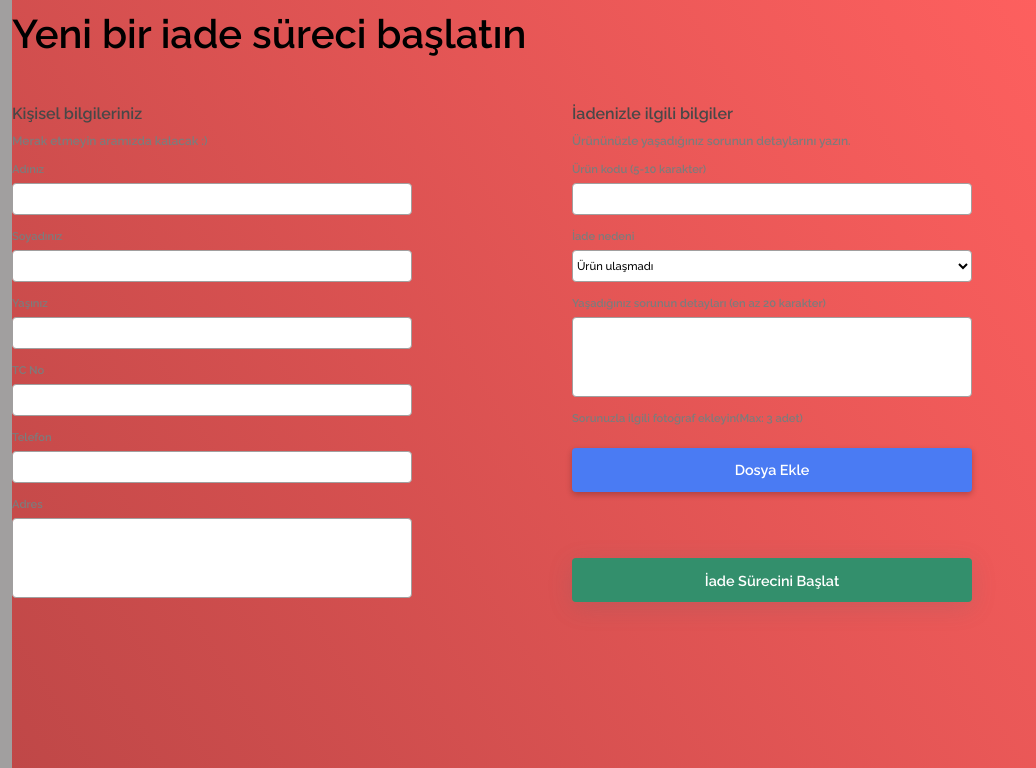
Test: New ticket page form tests › if telephone number field shows error when input value is not number
Type "aaa1" into the field labelled "Telefon" at x=212, y=467, box [12,451,412,483]
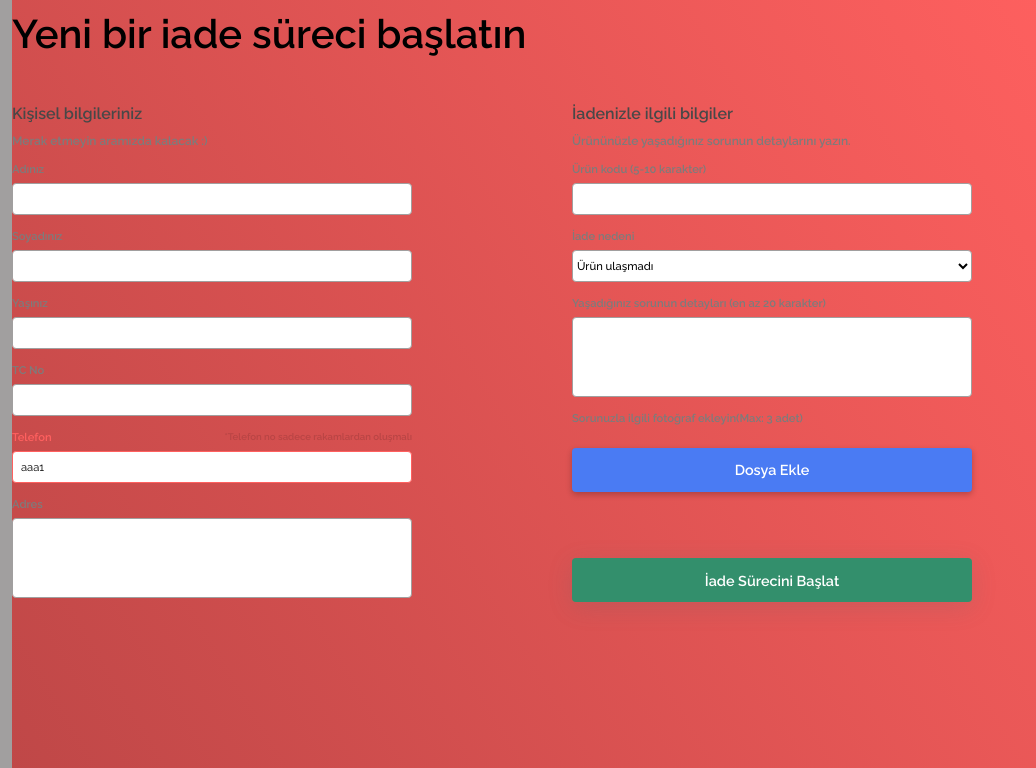
Now the message with test id "test-stattext-ticketTelNumber" reads "*Telefon no sadece rakamlardan oluşmalı", box [224,431,412,442]
